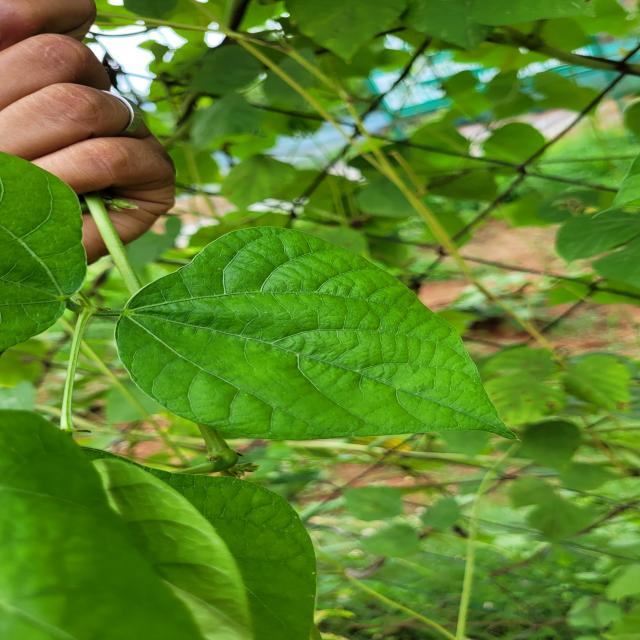Dolicos bean_healthy: (114, 221, 526, 448), (0, 398, 316, 640), (0, 132, 93, 377)
